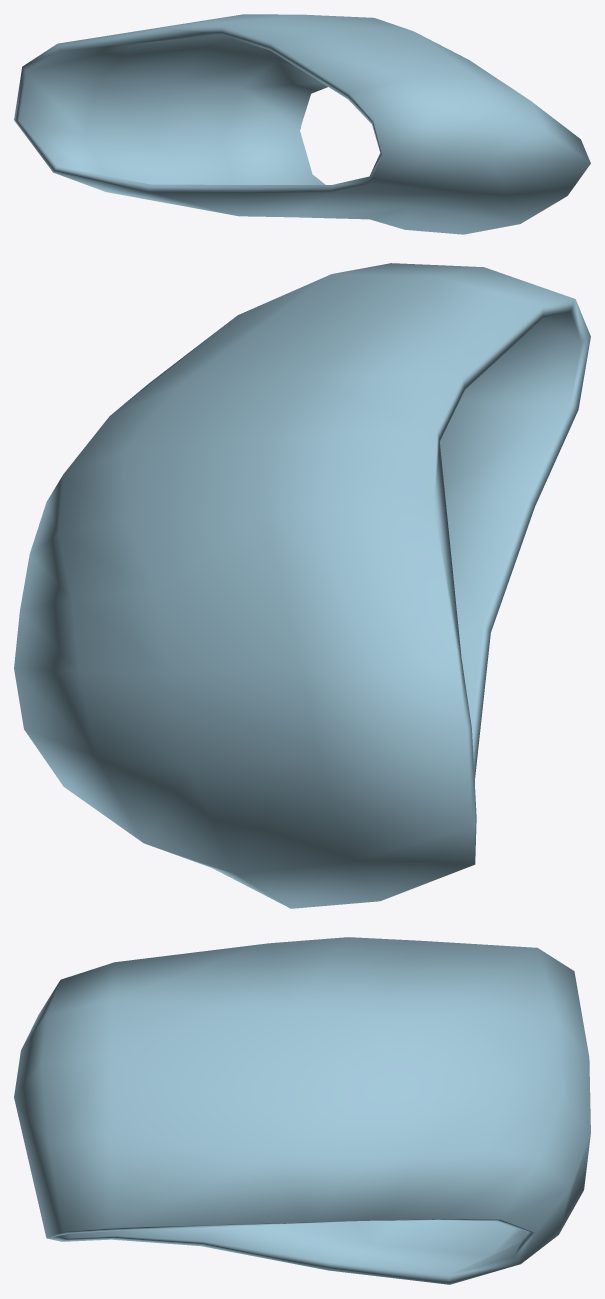
Rendered from articulacoes-articular-capsule-of-acromioclavicular-joint-l.glb.
3 views of the same model, one above another, from view 1: azimuth 30°, elevation 25°; view 2: azimuth 150°, elevation 25°; view 3: azimuth 270°, elevation 25° (orthographic). The views are drawn at different scales.
Visible parts, largest first — view 1: Articular capsule of acromioclavicular joint.l; view 2: Articular capsule of acromioclavicular joint.l; view 3: Articular capsule of acromioclavicular joint.l.
Part boxes in pixels (x1,y1,x2,y2): Articular capsule of acromioclavicular joint.l: (14,14,590,234); Articular capsule of acromioclavicular joint.l: (14,263,590,908); Articular capsule of acromioclavicular joint.l: (14,937,590,1284).
Bounding box in the file's own units: 0.027 × 0.016 × 0.0289.
